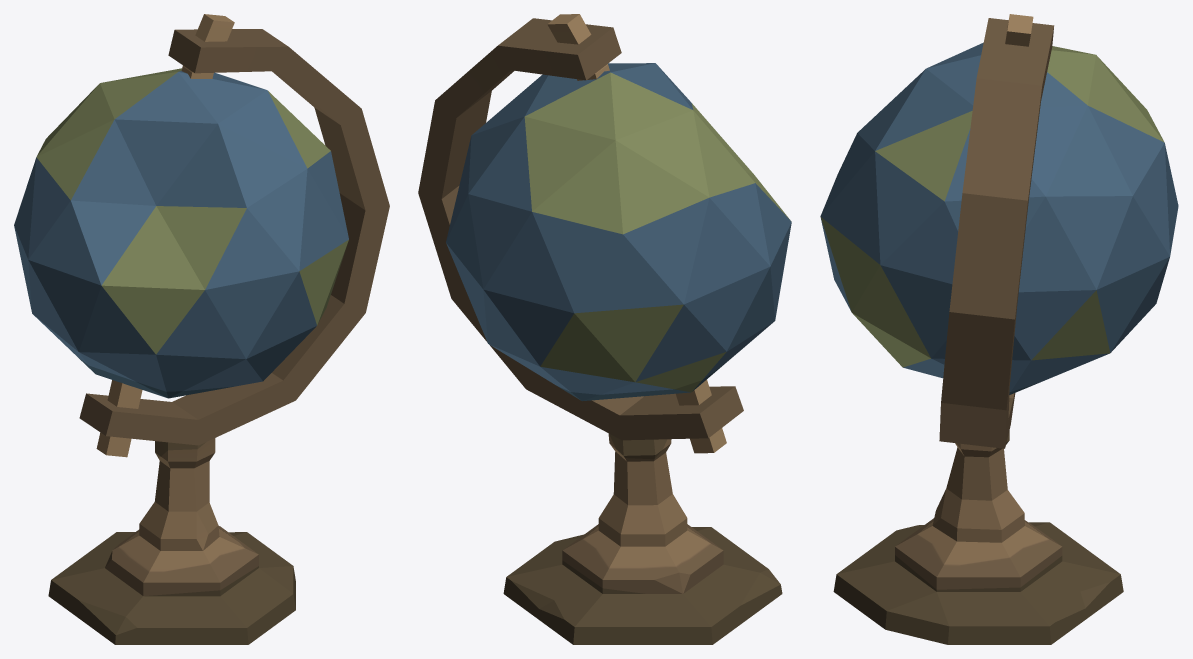
Rendered from SM_Prop_Globe_01.obj.
3 renders of one model, left to right at view 1: azimuth 30°, elevation 25°; view 2: azimuth 150°, elevation 25°; view 3: azimuth 270°, elevation 25°, orthographic. The views are drawn at different scales.
Parts seen in each view (by area): view 1: SM_Prop_Globe_01_0; view 2: SM_Prop_Globe_01_0; view 3: SM_Prop_Globe_01_0.
Part boxes in pixels (x1,y1,x2,y2): SM_Prop_Globe_01_0: (14, 14, 389, 644); SM_Prop_Globe_01_0: (418, 14, 791, 644); SM_Prop_Globe_01_0: (820, 14, 1178, 644).
Bounding box in the file's own units: 0.4245 × 0.6685 × 0.3602.
1 material, 1 textured.
